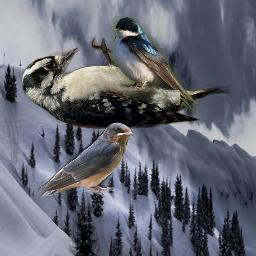Swallow: (111, 16, 198, 114), (38, 122, 134, 200)
Woodpecker: (22, 37, 230, 129)
